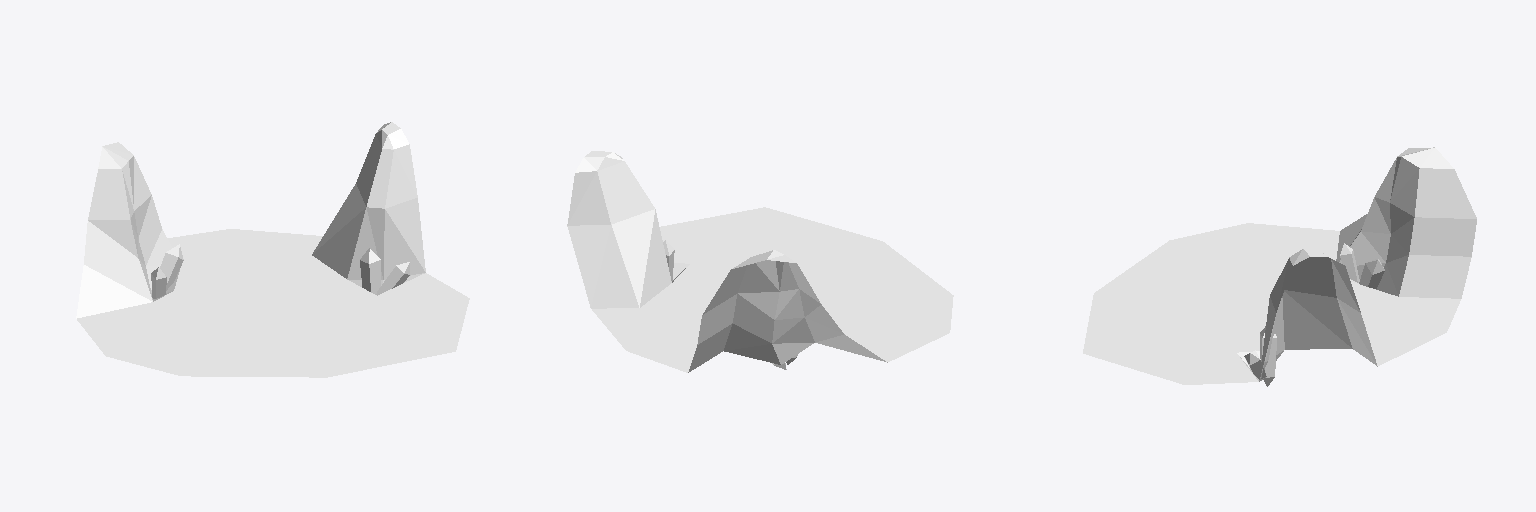
The model's file is terrain.obj.
The picture shows the model from 3 angles: view 1: azimuth 30°, elevation 25°; view 2: azimuth 150°, elevation 25°; view 3: azimuth 270°, elevation 25°; orthographic projection.
Parts seen in each view (by area): view 1: mesh_terrain_Mesh.005; view 2: mesh_terrain_Mesh.005; view 3: mesh_terrain_Mesh.005.
Part boxes in pixels (x1,y1,x2,y2): mesh_terrain_Mesh.005: (76, 122, 469, 377); mesh_terrain_Mesh.005: (567, 151, 953, 372); mesh_terrain_Mesh.005: (1083, 147, 1476, 386).
Size of the model in its own units: 1.63 by 0.724 by 1.67.